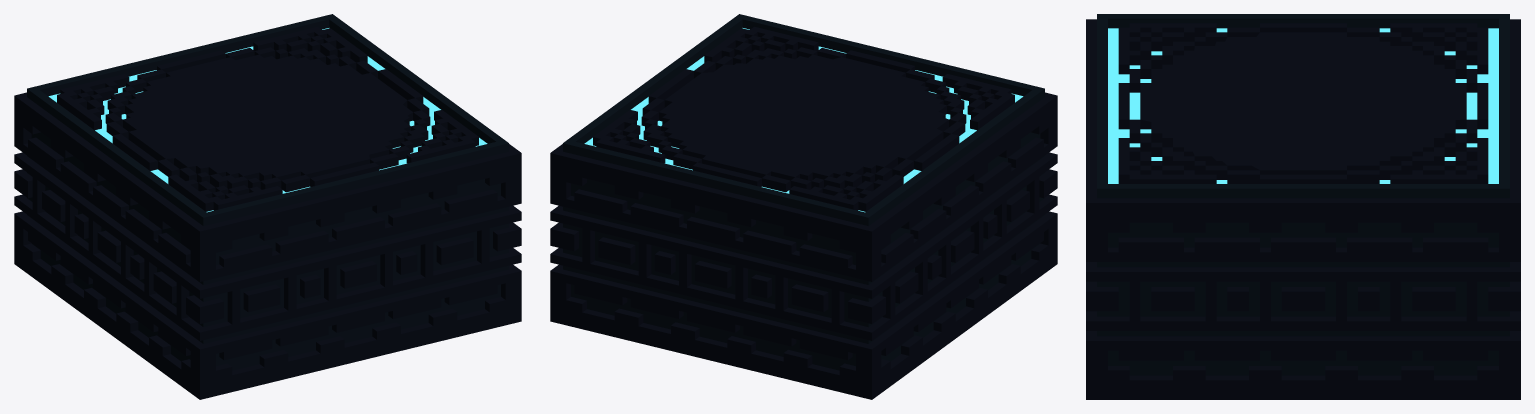
File: Block_3.fbx
3 renders of one model, left to right at view 1: azimuth 30°, elevation 25°; view 2: azimuth 150°, elevation 25°; view 3: azimuth 270°, elevation 25°, orthographic. The views are drawn at different scales.
Parts seen in each view (by area): view 1: Block_3; view 2: Block_3; view 3: Block_3.
Boxes of the visible parts, x1,y1,x2,y2 form: Block_3: (14, 14, 521, 399); Block_3: (550, 14, 1057, 399); Block_3: (1086, 14, 1520, 399).
Size of the model in its own units: 100 by 100 by 52.5.
